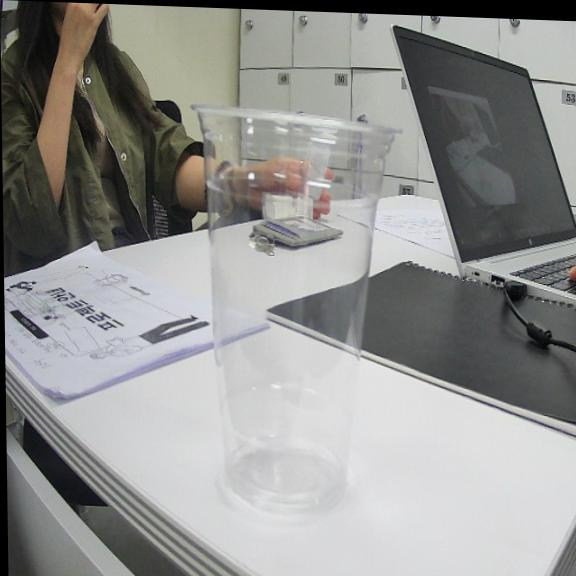Plastik: (197, 108, 397, 509)
